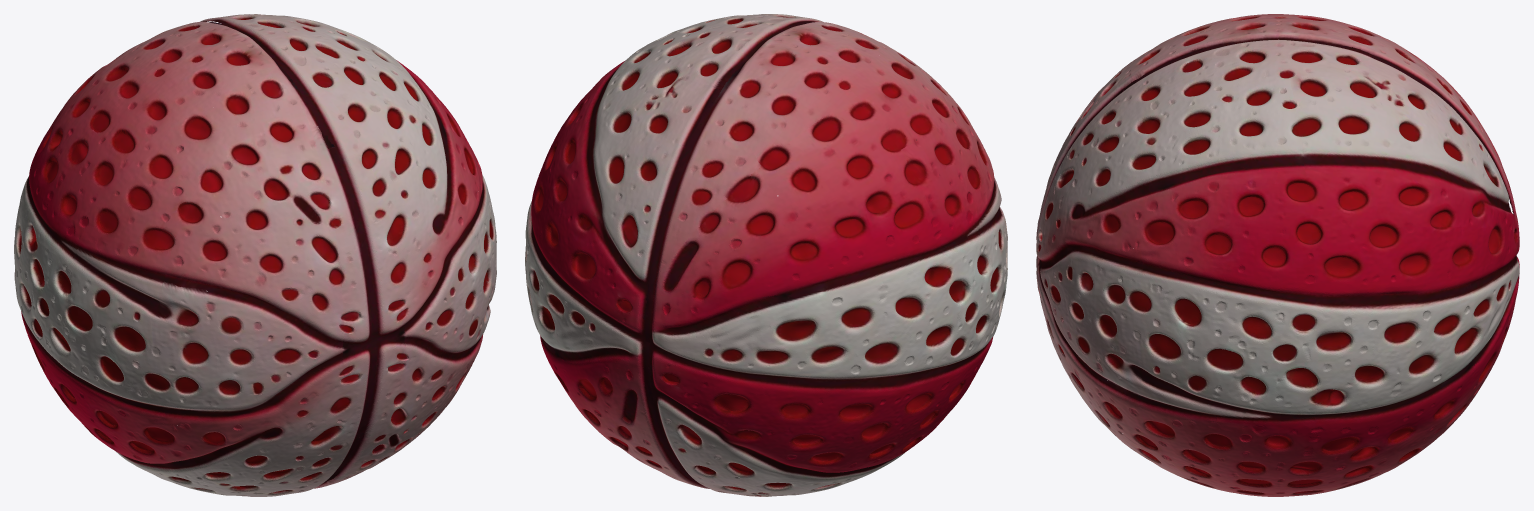
File: basketBall.glb
3 views of the same model, side by side, from view 1: azimuth 30°, elevation 25°; view 2: azimuth 150°, elevation 25°; view 3: azimuth 270°, elevation 25° (orthographic).
Visible parts, largest first — view 1: tripo_node_e8c33c29-495e-4555-86ec-d8a574e8f15f.001; view 2: tripo_node_e8c33c29-495e-4555-86ec-d8a574e8f15f.001; view 3: tripo_node_e8c33c29-495e-4555-86ec-d8a574e8f15f.001.
Boxes of the visible parts, x1,y1,x2,y2 form: tripo_node_e8c33c29-495e-4555-86ec-d8a574e8f15f.001: [14, 14, 496, 496]; tripo_node_e8c33c29-495e-4555-86ec-d8a574e8f15f.001: [525, 14, 1007, 496]; tripo_node_e8c33c29-495e-4555-86ec-d8a574e8f15f.001: [1036, 14, 1519, 496].
Bounding box in the file's own units: 1 × 0.9999 × 0.9998.
1 material, 1 textured.
